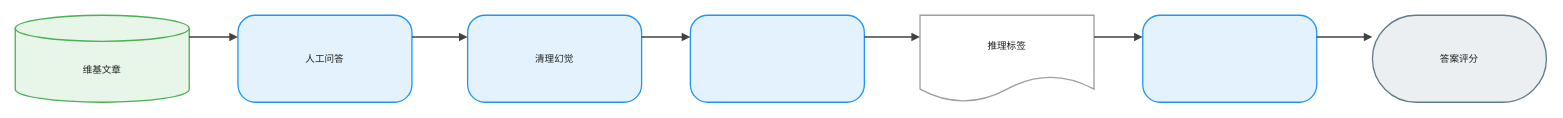
This 1563x118 diagram has some shape labels left out. Each missing label, with the box of its shape:
RAG系统: (1142, 14, 1317, 102)
复核标注: (689, 14, 865, 102)
